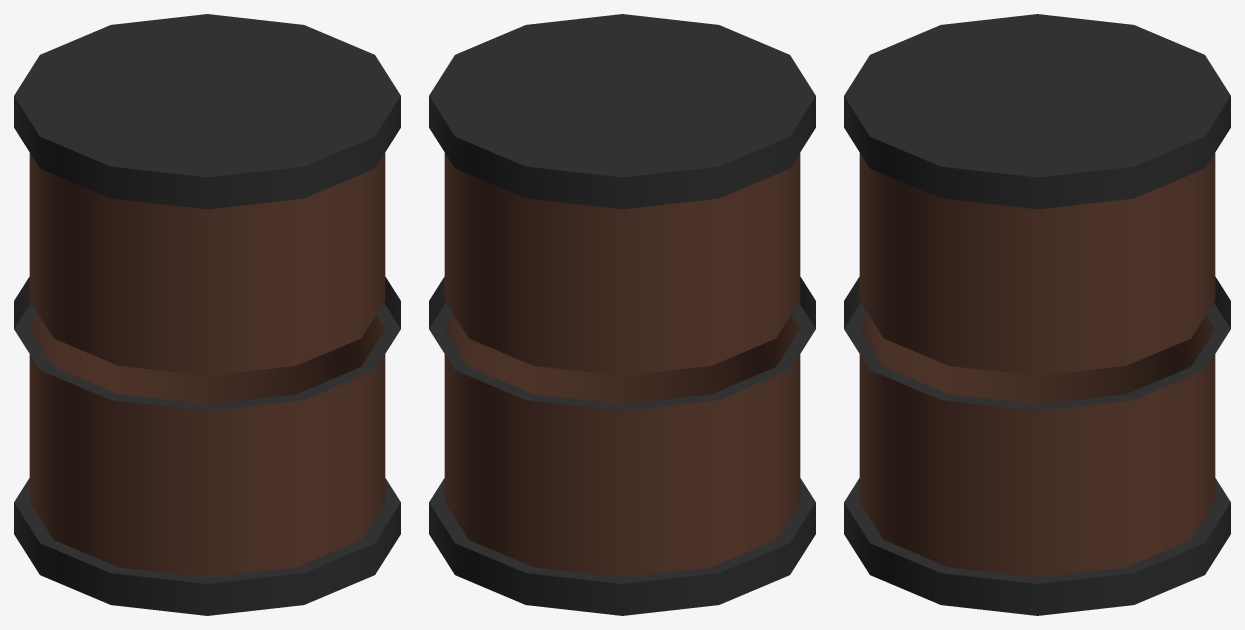
Rendered from Barrel.fbx.
The picture shows the model from 3 angles, left to right: view 1: azimuth 30°, elevation 25°; view 2: azimuth 150°, elevation 25°; view 3: azimuth 270°, elevation 25°; orthographic projection.
Visible parts, largest first — view 1: Barrel; view 2: Barrel; view 3: Barrel.
Boxes of the visible parts, <box> form: Barrel: <box>14,14,400,615</box>; Barrel: <box>429,14,815,615</box>; Barrel: <box>844,14,1230,615</box>.
Size of the model in its own units: 160 by 200 by 160.
